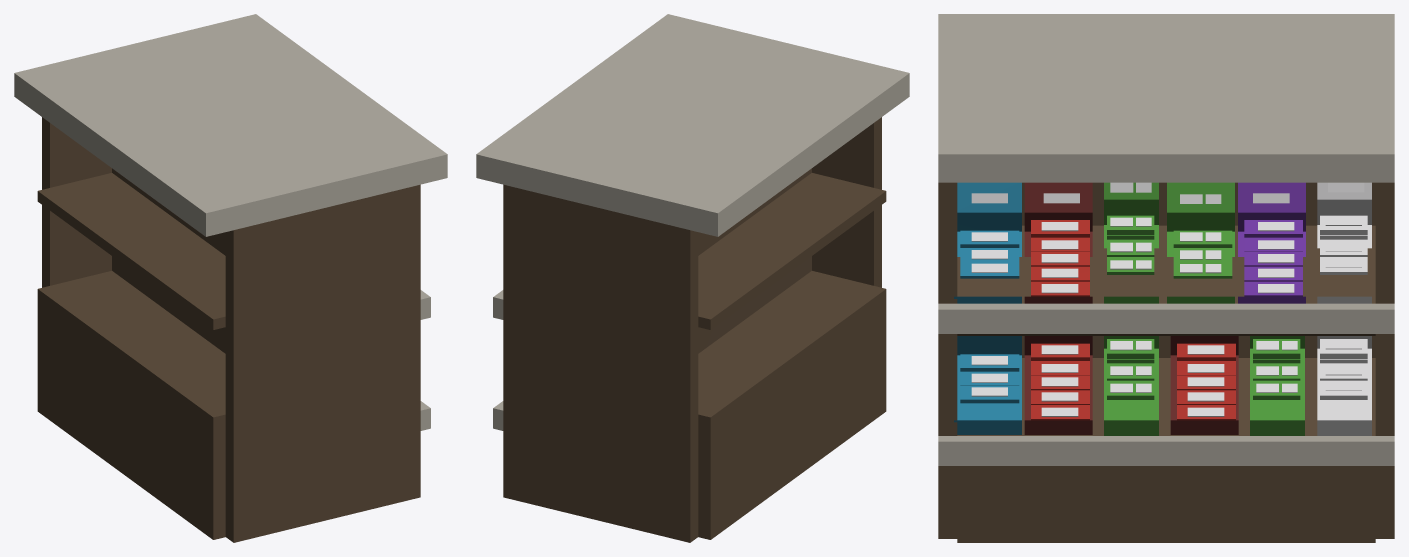
File: SM_shopCounter_03.glb
The picture shows the model from 3 angles, left to right: view 1: azimuth 30°, elevation 25°; view 2: azimuth 150°, elevation 25°; view 3: azimuth 270°, elevation 25°; orthographic projection. The views are drawn at different scales.
Parts seen in each view (by area): view 1: SM_shopCounter_03; view 2: SM_shopCounter_03; view 3: SM_shopCounter_03.
Boxes of the visible parts, bbox=[...] form: SM_shopCounter_03: bbox=[14, 14, 447, 542]; SM_shopCounter_03: bbox=[476, 14, 909, 542]; SM_shopCounter_03: bbox=[938, 14, 1394, 542].
Size of the model in its own units: 0.7281 by 0.9681 by 1.
Materials: 1 (1 with a texture image).
